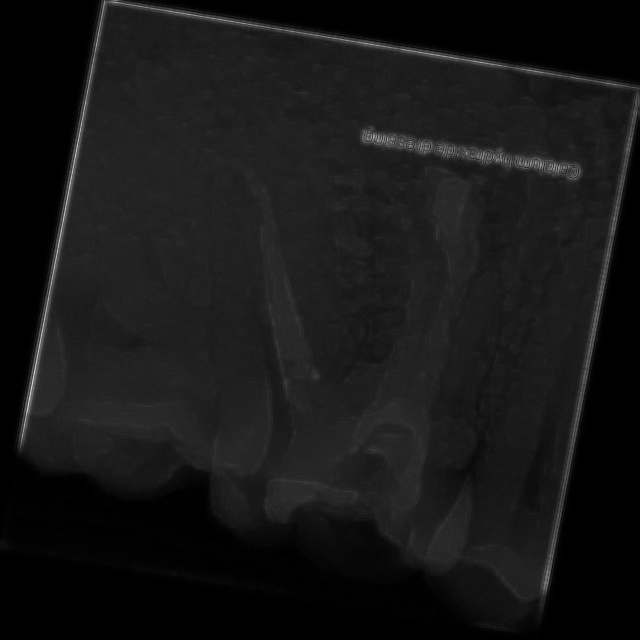Class 1- complete endodontic treatment: (124, 120, 533, 519)
